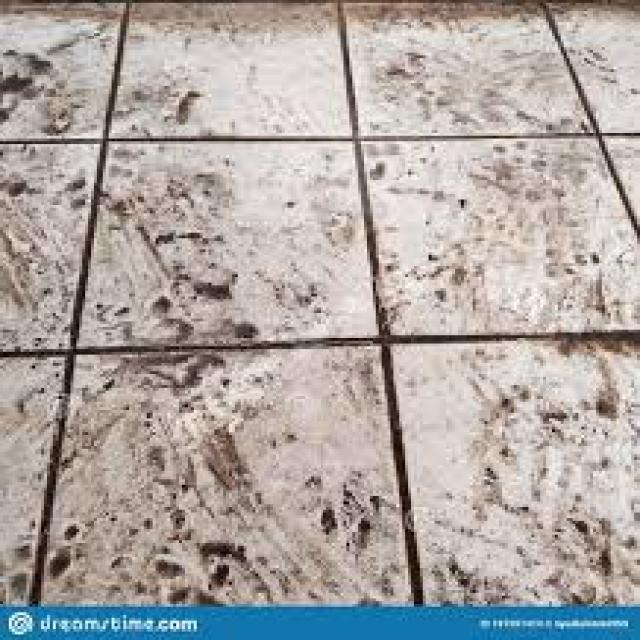dirty_floor: (1, 2, 637, 604)
